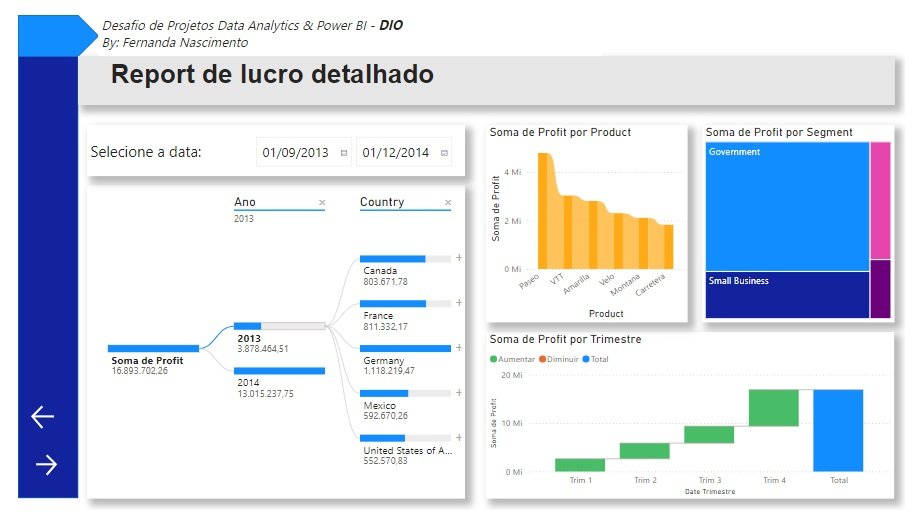

The page's visual inventory and layout, read from the dashboard file:
{"tool":"powerbi","page":{"name":"Página 2","canvas":[1280,720],"ordinal":1},"visuals":[{"type":"shape","box":[12.3,71.9,86,631.6],"z":0},{"type":"shape","box":[12.3,12.3,115.8,59.6],"z":1000},{"type":"textbox","box":[98.3,71.7,1166.7,70],"z":2000},{"type":"textbox","box":[126.7,8.3,720,63.3],"z":3000},{"type":"decompositionTreeVisual","fields":{"ExplainBy":["financials.Date.Variation.Hierarquia de datas.Ano","financials.Country","financials.Date.Variation.Hierarquia de datas.Trimestre","financials.Date.Variation.Hierarquia de datas.Mês","financials.Date.Variation.Hierarquia de datas.Dia"],"Analyze":["Sum(financials.Profit)"]},"box":[111.7,255,540,448.3],"z":4000},{"type":"treemap","fields":{"Values":["Sum(financials.Profit)"],"Group":["financials.Segment"]},"box":[990,170,275,281.7],"z":5000},{"type":"waterfallChart","fields":{"Y":["Sum(financials.Profit)"],"Category":["financials.Date.Variation.Hierarquia de datas.Trimestre"]},"box":[681.7,465,583.3,238.3],"z":6000},{"type":"ribbonChart","fields":{"Category":["financials.Product"],"Y":["Sum(financials.Profit)"]},"box":[681.7,170,288.3,281.7],"z":7000},{"type":"actionButton","box":[33.3,635,43.3,40],"z":8000},{"type":"actionButton","box":[26.7,565,50,43.3],"z":9000},{"type":"textbox","box":[111.7,170,540,73.3],"z":10000},{"type":"slicer","fields":{"Values":["financials.Date"]},"box":[340,176.7,300,53.3],"z":11000}]}

Visuals, with their boxes in screenshot pixels (x1, y1, x2, y2), scaled from the page's 1280x720 canvas onto the 919x518 screenshot:
shape: [left=9, top=52, right=71, bottom=506]
shape: [left=9, top=9, right=92, bottom=52]
textbox: [left=71, top=52, right=908, bottom=102]
textbox: [left=91, top=6, right=608, bottom=52]
decompositionTreeVisual - financials.Date.Variation.Hierarquia de datas.Ano x financials.Country: [left=80, top=183, right=468, bottom=506]
treemap - Sum(financials.Profit) x financials.Segment: [left=711, top=122, right=908, bottom=325]
waterfallChart - Sum(financials.Profit) x financials.Date.Variation.Hierarquia de datas.Trimestre: [left=489, top=335, right=908, bottom=506]
ribbonChart - financials.Product x Sum(financials.Profit): [left=489, top=122, right=696, bottom=325]
actionButton: [left=24, top=457, right=55, bottom=486]
actionButton: [left=19, top=406, right=55, bottom=438]
textbox: [left=80, top=122, right=468, bottom=175]
slicer - financials.Date: [left=244, top=127, right=460, bottom=165]
